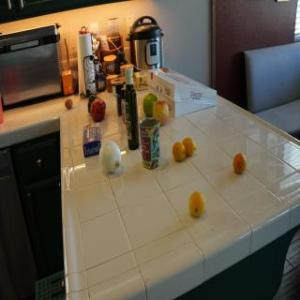bell_pepper: (90, 98, 106, 120), (88, 94, 96, 114)
egg: (65, 96, 74, 112)
onion: (98, 140, 121, 176)
